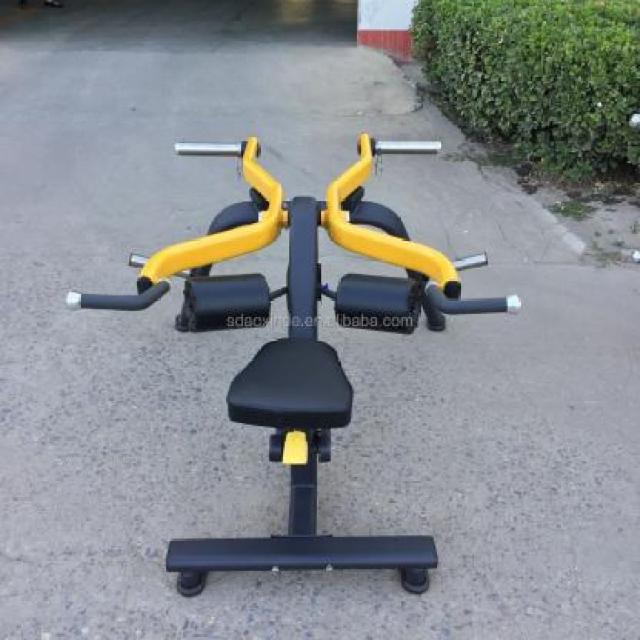seated dip machine: (69, 136, 523, 598)
